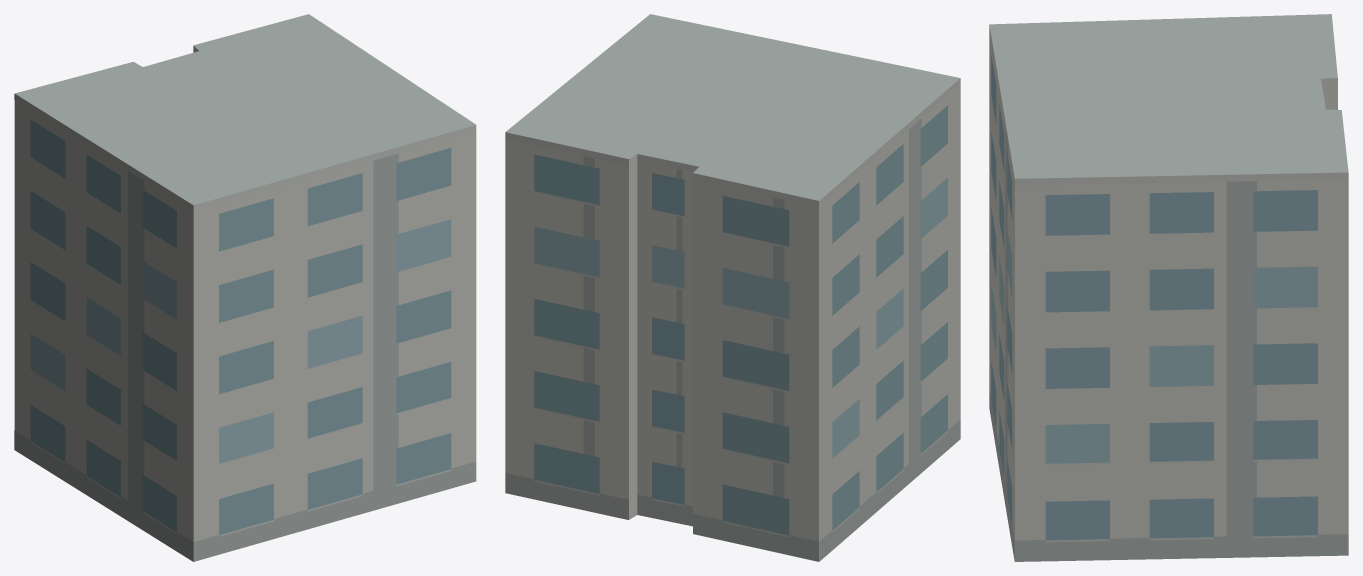
Rendered from survey-upis-32511408.glb.
3 views of the same model, side by side, from view 1: azimuth 30°, elevation 25°; view 2: azimuth 150°, elevation 25°; view 3: azimuth 270°, elevation 25° (orthographic). The views are drawn at different scales.
Parts seen in each view (by area): view 1: survey-upis-32511408.tmp; view 2: survey-upis-32511408.tmp; view 3: survey-upis-32511408.tmp.
Part boxes in pixels (bbox=[...]): survey-upis-32511408.tmp: bbox=[14, 14, 476, 561]; survey-upis-32511408.tmp: bbox=[505, 14, 960, 561]; survey-upis-32511408.tmp: bbox=[989, 14, 1348, 561].
Bounding box in the file's own units: 12.37 × 13.4 × 11.4.
